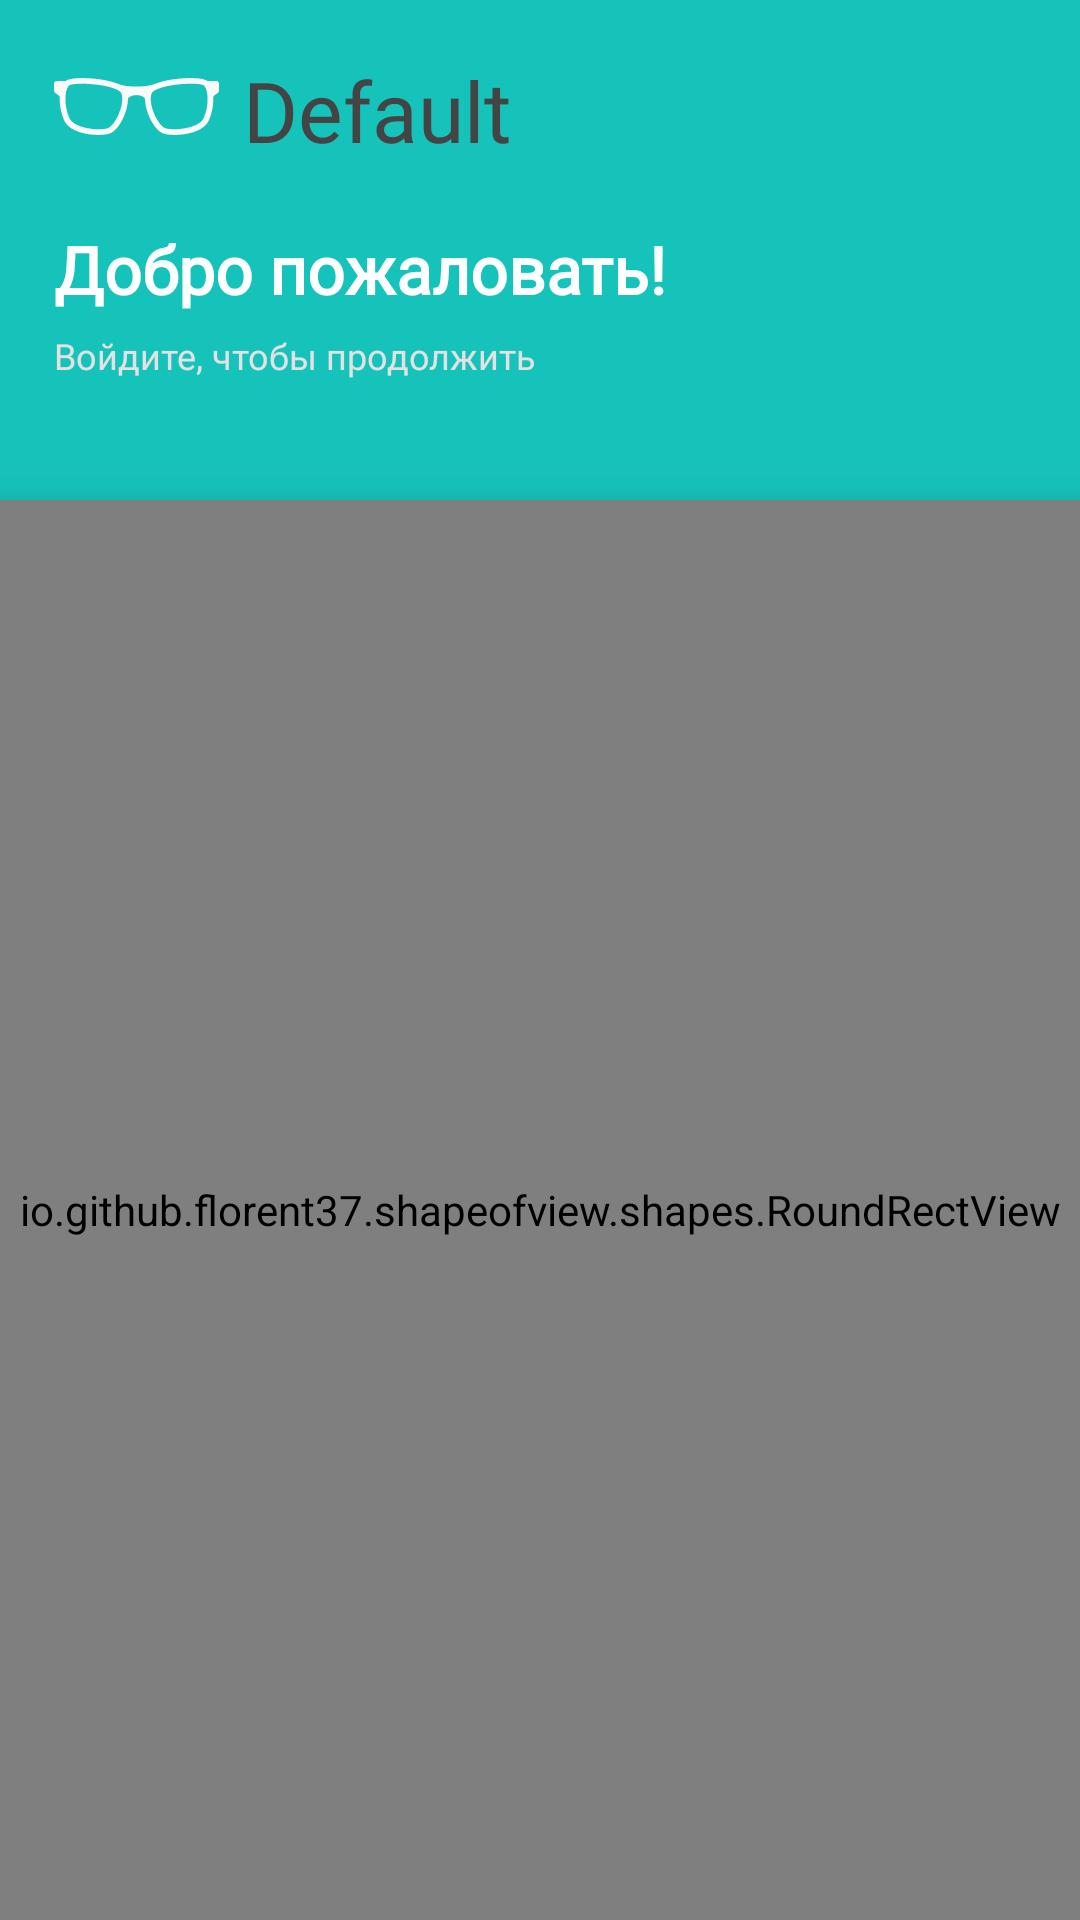

Icons on this 1080 x 1920 Android screen, each with the point to tap as point (x, y):
glasses: point (136, 106)
